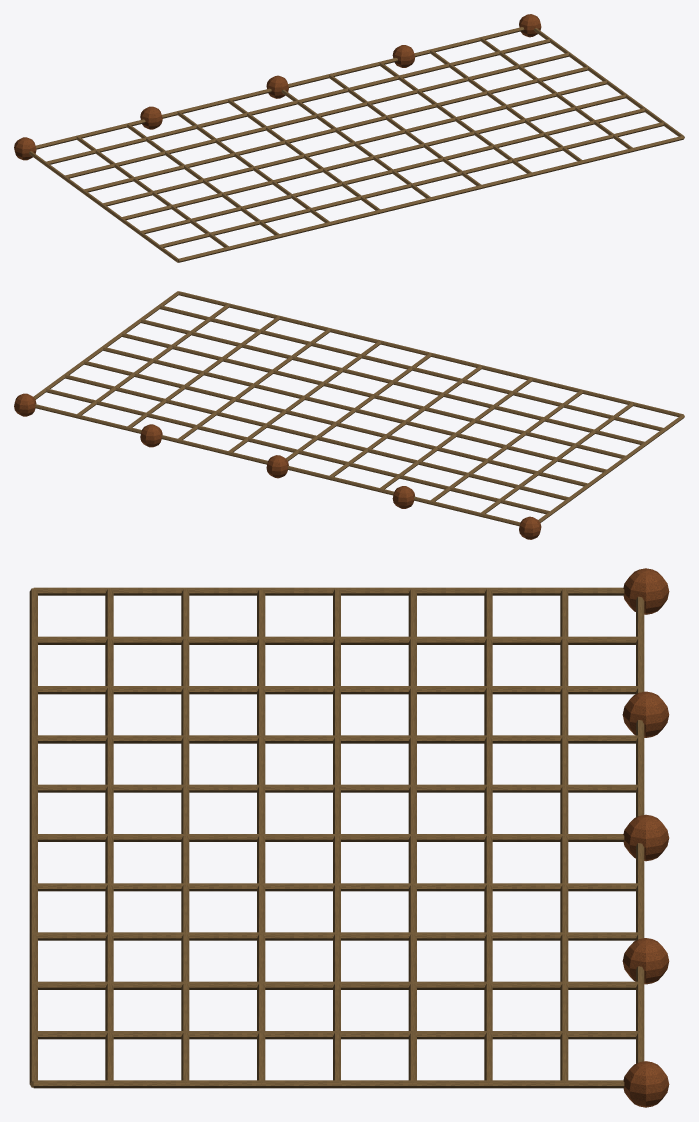
Rendered from SM_fishing_net.gltf.
The picture shows the model from 3 angles, top to bottom: view 1: azimuth 30°, elevation 25°; view 2: azimuth 150°, elevation 25°; view 3: azimuth 270°, elevation 25°; orthographic projection. The views are drawn at different scales.
Visible parts, largest first — view 1: root; view 2: root; view 3: root.
Boxes of the visible parts, x1,y1,x2,y2 form: root: [14, 14, 684, 262]; root: [14, 291, 684, 539]; root: [29, 568, 669, 1107].
Bounding box in the file's own units: 2.08 × 0.08 × 1.1.
Materials: 2 (2 with a texture image).
